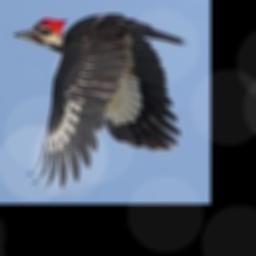Woodpecker: (15, 12, 191, 188)
